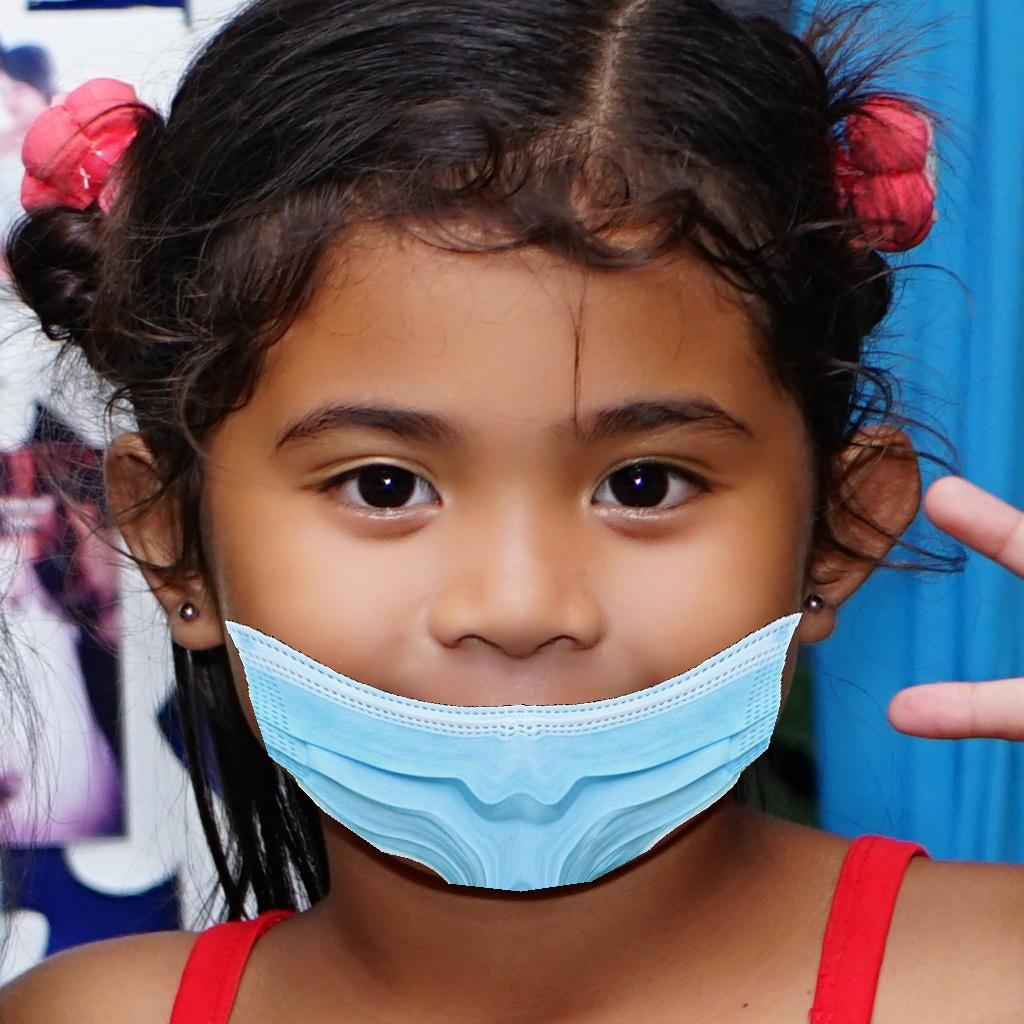Máscara Incorreta: (172, 319, 813, 866)
